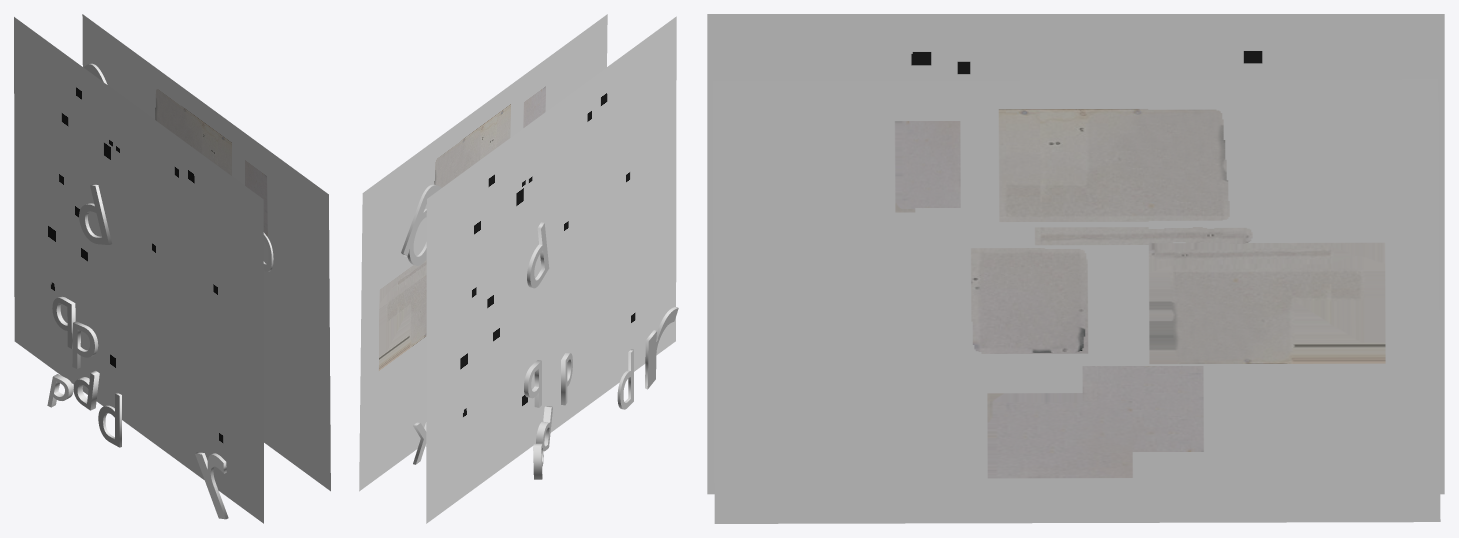
File: schendel.dae
3 renders of one model, left to right at view 1: azimuth 30°, elevation 25°; view 2: azimuth 150°, elevation 25°; view 3: azimuth 270°, elevation 25°, orthographic. The views are drawn at different scales.
Parts seen in each view (by area): view 1: Plane_002, Plane_001, Text_004, Text, Text_008, Text_001, Text_006, Text_009, Text_007; view 2: Plane_002, Plane_001, Text_011, Text, Text_004, Text_009, Text_001, Text_008, Text_006, Text_007; view 3: Plane_001, Plane_002.
Part boxes in pixels (box(x1,y1,x2,y2)): Plane_002: box(14, 17, 263, 523); Plane_001: box(82, 14, 330, 491); Text_004: box(79, 184, 111, 244); Text: box(195, 452, 228, 519); Text_008: box(72, 321, 98, 368); Text_001: box(98, 392, 121, 447); Text_006: box(73, 370, 99, 410); Text_009: box(52, 296, 75, 348); Text_007: box(47, 374, 73, 407); Plane_002: box(426, 16, 676, 523); Plane_001: box(359, 14, 607, 491); Text_011: box(401, 184, 441, 265); Text: box(645, 307, 678, 389); Text_004: box(527, 222, 549, 288); Text_009: box(524, 360, 541, 407); Text_001: box(617, 349, 633, 409); Text_008: box(561, 352, 572, 405); Text_006: box(536, 406, 552, 451); Text_007: box(533, 443, 543, 479); Plane_001: box(712, 79, 1440, 523); Plane_002: box(707, 14, 1444, 494).
Size of the model in its own units: 3.41 by 11.84 by 9.01.
Materials: 7 (3 with a texture image).
